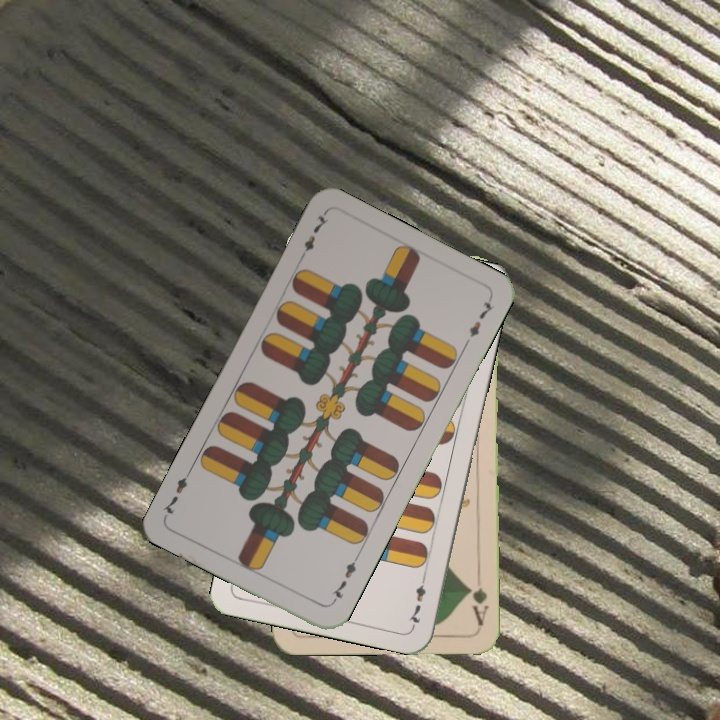E7: (295, 209, 331, 264), (326, 552, 361, 607), (405, 570, 429, 629)
GA: (464, 569, 491, 628)
